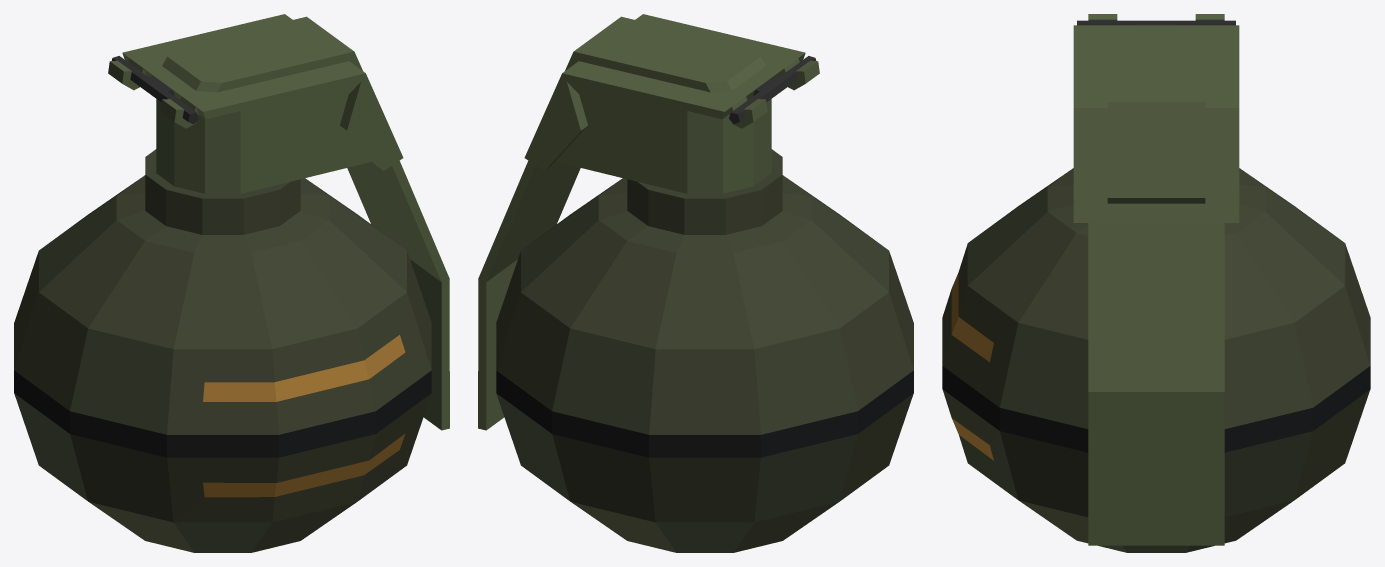
File: Frag_Grenade.gltf
3 views of the same model, side by side, from view 1: azimuth 30°, elevation 25°; view 2: azimuth 150°, elevation 25°; view 3: azimuth 270°, elevation 25° (orthographic). The views are drawn at different scales.
Visible parts, largest first — view 1: Frag_Grenade, Arm; view 2: Frag_Grenade, Arm; view 3: Frag_Grenade, Arm.
Part boxes in pixels (x1,y1,x2,y2): Frag_Grenade: (14, 95, 431, 552); Arm: (108, 14, 449, 430); Frag_Grenade: (496, 95, 913, 552); Arm: (478, 14, 819, 430); Frag_Grenade: (942, 168, 1370, 552); Arm: (1073, 14, 1239, 545).
Size of the model in its own units: 0.0556 by 0.0636 by 0.0537.
